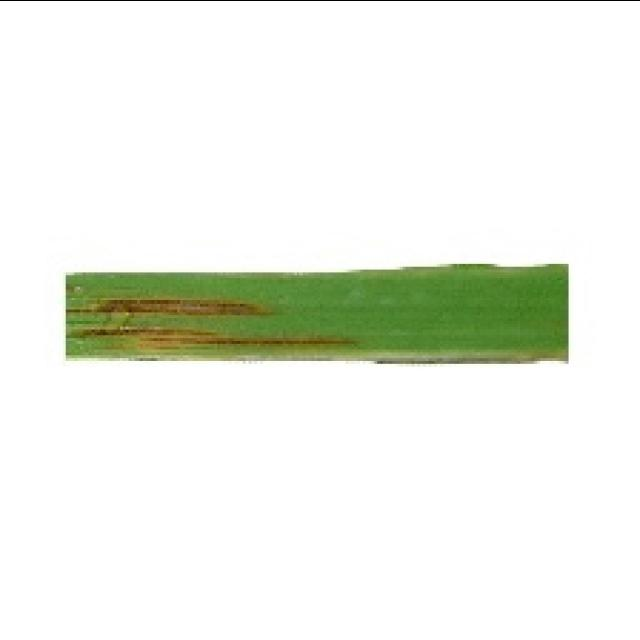Unhealthy: (65, 323, 362, 351), (65, 296, 279, 317), (376, 348, 568, 363)
